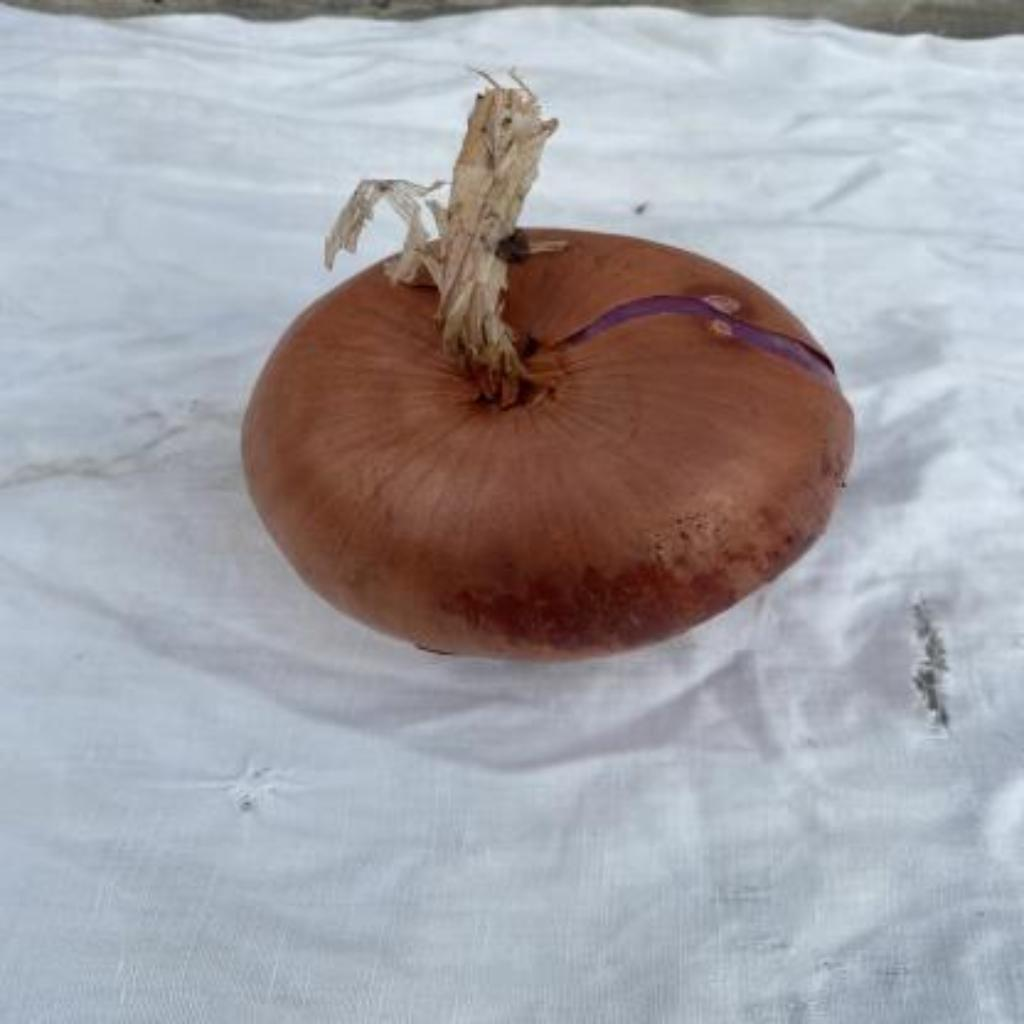Onion: (244, 76, 857, 658)
